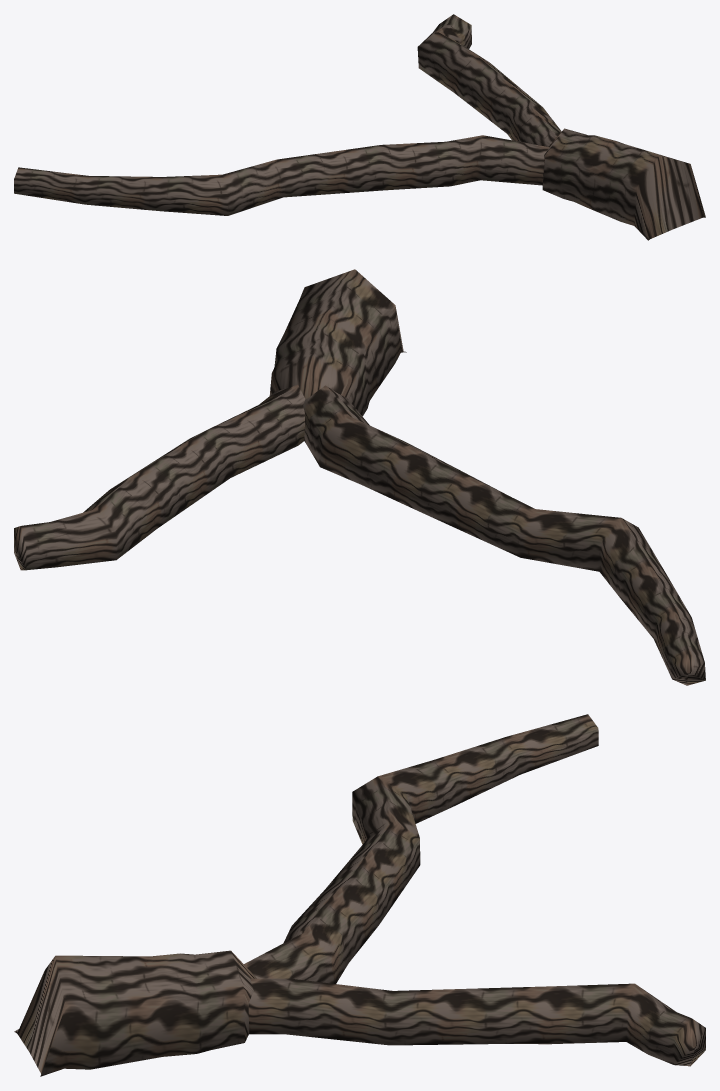
File: fallen-a.lod1.glb
3 renders of one model, top to bottom at view 1: azimuth 30°, elevation 25°; view 2: azimuth 150°, elevation 25°; view 3: azimuth 270°, elevation 25°, orthographic. The views are drawn at different scales.
Parts seen in each view (by area): view 1: bark; view 2: bark; view 3: bark.
Boxes of the visible parts, left/top/right/bottom form: bark: left=14, top=14, right=705, bottom=240; bark: left=14, top=269, right=705, bottom=685; bark: left=14, top=714, right=705, bottom=1076.
Size of the model in its own units: 4.43 by 0.5759 by 3.86.
Materials: 1 (1 with a texture image).
